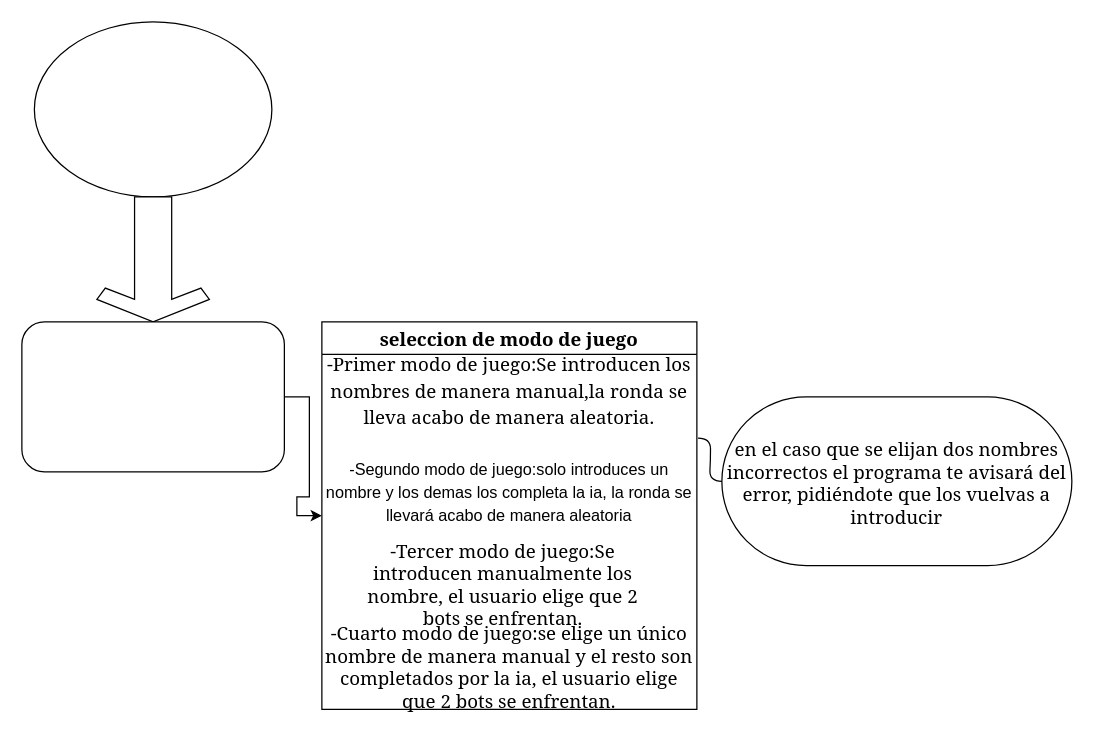
Some shapes in this 1094 by 733 pixel diagram are drawn without their labels. Here are the shapes that lost their labels. From the top down, the centre of each, then its label:
At (152,109): "war simulator".
At (152,396): "Menú".
